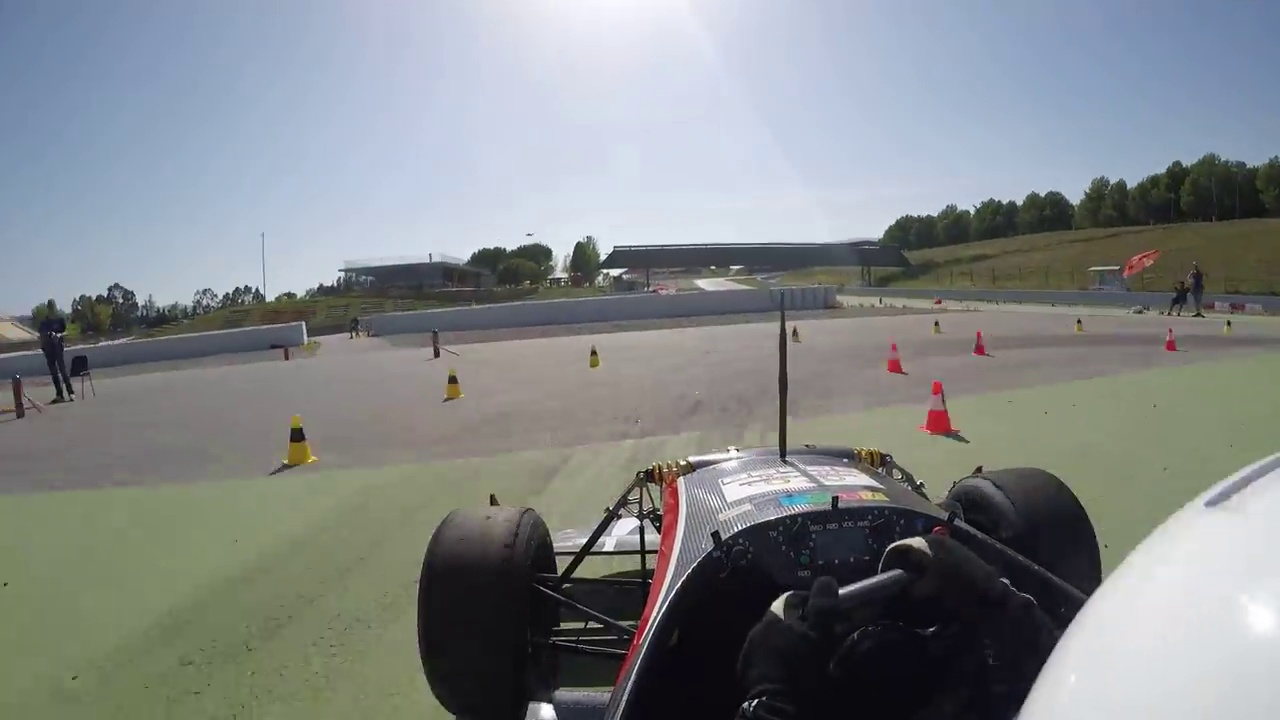Cone: (921, 379, 959, 436), (282, 412, 320, 468), (444, 363, 467, 402), (884, 344, 907, 372)
